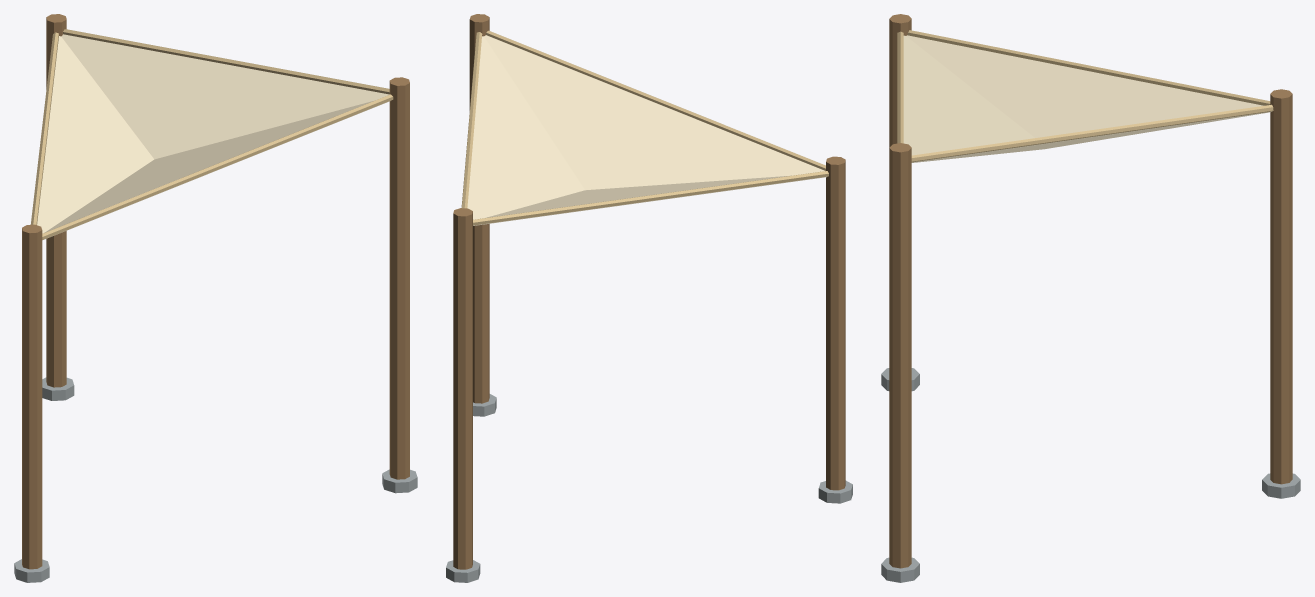
Rendered from shade-sail.glb.
3 renders of one model, left to right at view 1: azimuth 30°, elevation 25°; view 2: azimuth 150°, elevation 25°; view 3: azimuth 270°, elevation 25°, orthographic. The views are drawn at different scales.
Visible parts, largest first — view 1: shade-sail; view 2: shade-sail; view 3: shade-sail.
Part boxes in pixels (x1,y1,x2,y2): shade-sail: [14, 14, 417, 582]; shade-sail: [446, 14, 852, 582]; shade-sail: [881, 14, 1300, 582].
Bounding box in the file's own units: 0.48 × 0.464 × 0.413.
